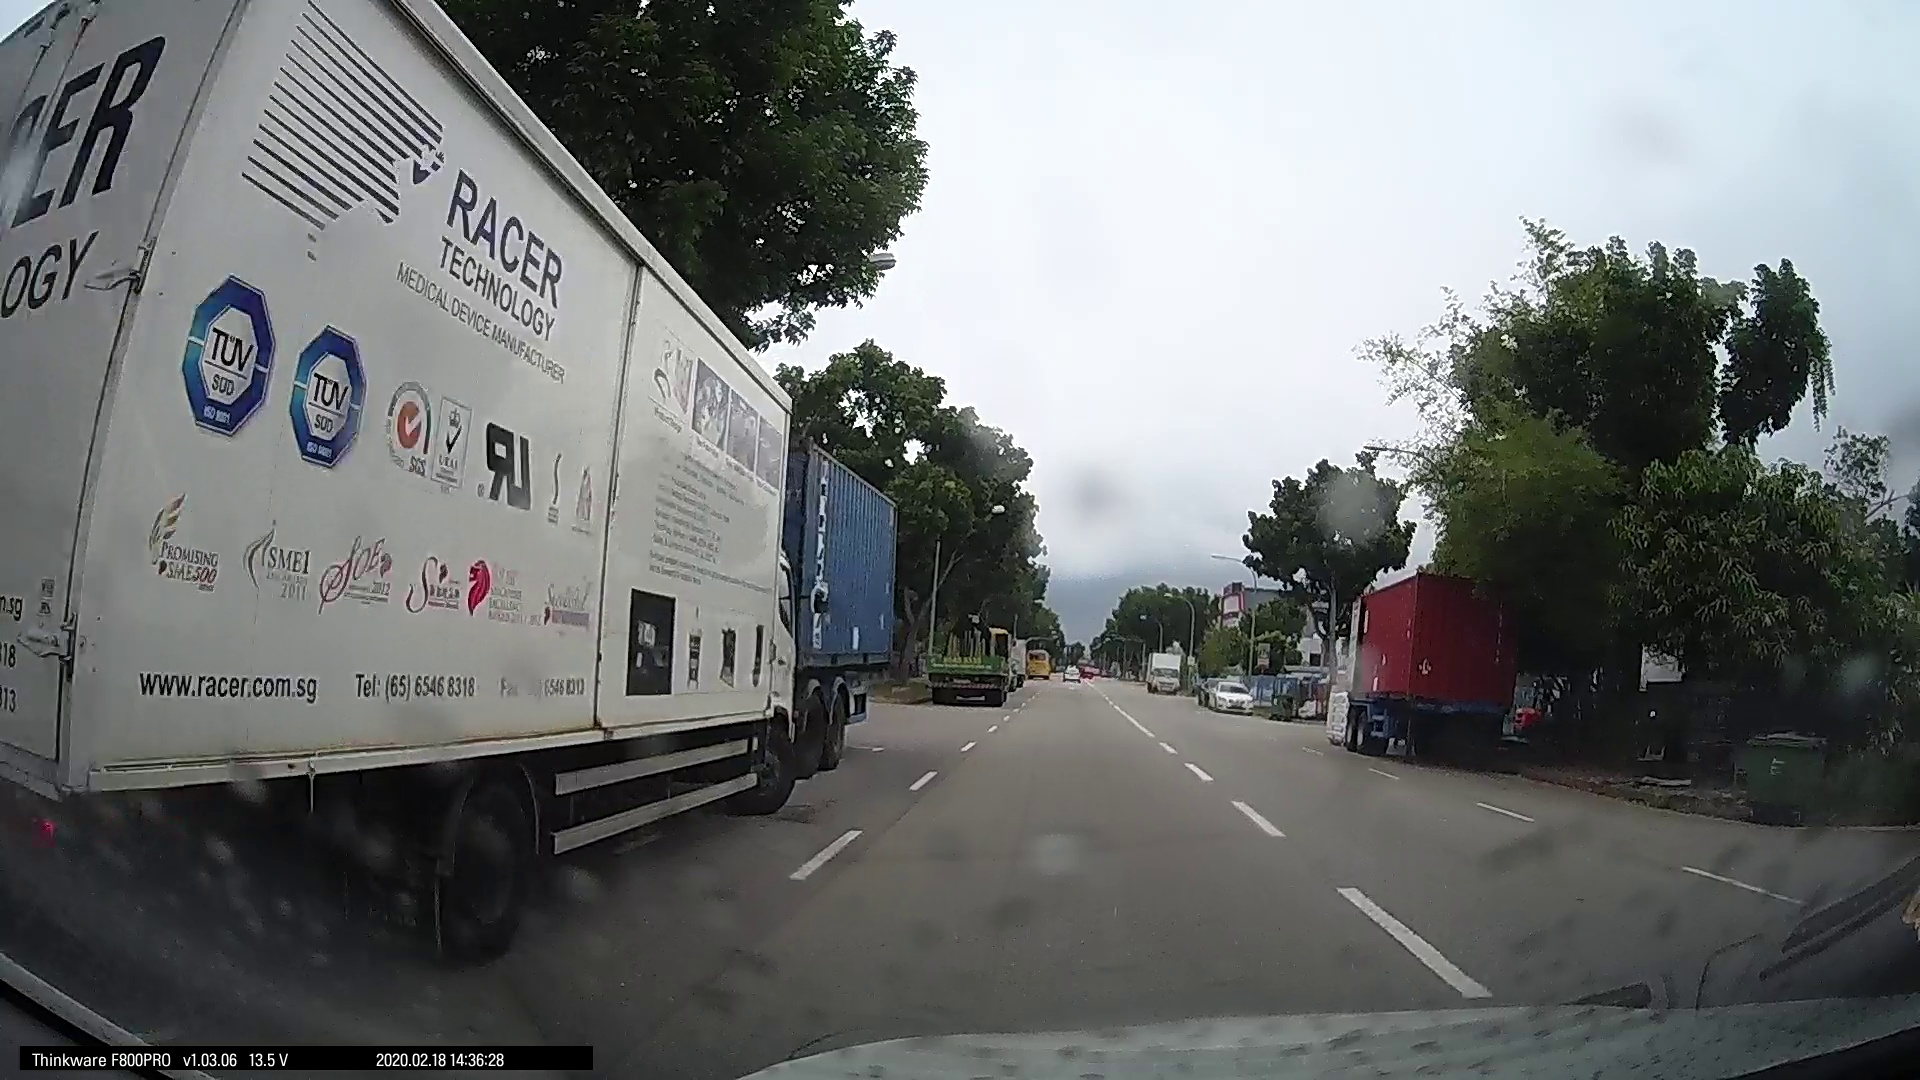Heavy Vehicle: (11, 15, 818, 1000), (1331, 564, 1530, 764)
Light Vehicle: (1197, 671, 1251, 713)
